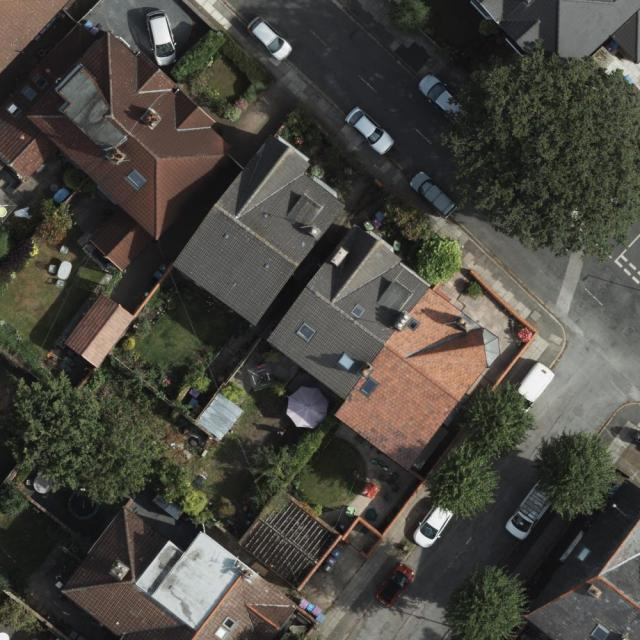roof: (266, 220, 502, 475), (0, 25, 235, 275), (173, 132, 348, 328), (62, 504, 301, 640), (522, 480, 640, 640), (478, 1, 640, 83), (1, 1, 70, 74), (67, 296, 136, 368)
skylight: (124, 168, 150, 194), (359, 376, 382, 400), (297, 322, 317, 344), (336, 353, 356, 372), (6, 103, 22, 119), (21, 85, 37, 101), (406, 317, 421, 332), (351, 303, 365, 319), (224, 615, 236, 630), (32, 76, 46, 88), (213, 627, 228, 638)
